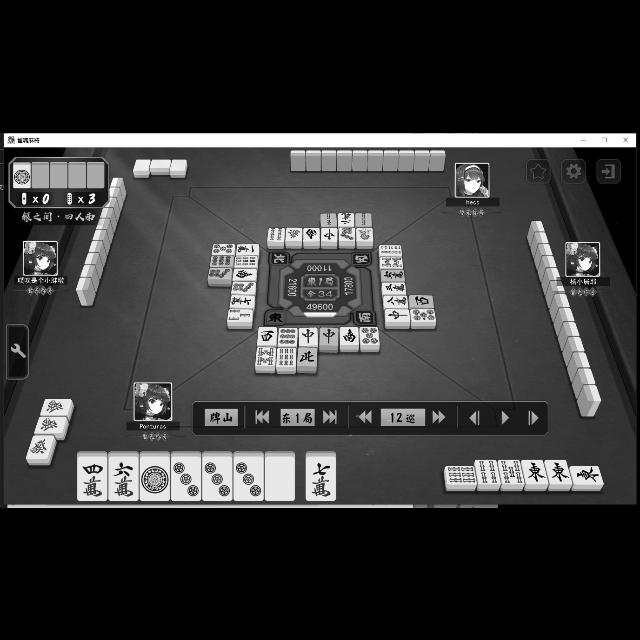1m: (236, 243, 260, 255)
1p: (140, 457, 170, 501), (13, 162, 31, 188)
1s: (356, 226, 374, 242)
2m: (338, 212, 354, 226)
2s: (320, 212, 338, 226), (356, 212, 372, 226)
3m: (382, 282, 406, 294)
3p: (171, 456, 201, 500), (202, 456, 232, 500), (234, 456, 264, 500)
3s: (228, 308, 252, 322)
4m: (77, 456, 107, 500)
4s: (476, 459, 500, 483), (379, 244, 403, 256), (266, 226, 284, 240)
5p: (358, 326, 379, 344), (412, 308, 436, 320), (211, 242, 233, 254)
5s: (500, 460, 524, 484)
6m: (109, 456, 139, 499), (382, 269, 404, 281)
6s: (445, 464, 477, 484)
7m: (304, 456, 334, 499), (230, 294, 254, 308)
7p: (231, 280, 255, 294), (208, 266, 232, 280), (339, 227, 356, 241)
8m: (384, 294, 408, 308)
8s: (256, 346, 274, 366), (380, 256, 404, 268)
9p: (278, 327, 296, 345), (210, 254, 233, 266)
9s: (276, 348, 296, 366), (234, 254, 258, 266)
chun: (384, 308, 410, 322), (300, 326, 318, 346), (321, 326, 339, 346), (320, 227, 338, 241)
haku: (266, 456, 294, 498), (150, 158, 172, 168), (170, 158, 188, 170), (134, 158, 150, 170)
hatsu: (26, 434, 52, 458), (34, 416, 66, 434), (40, 399, 72, 415), (286, 228, 302, 240)
nan: (340, 326, 358, 344), (233, 268, 257, 280), (303, 226, 319, 242)
pe: (296, 346, 318, 366)
sha: (256, 327, 278, 345), (408, 294, 434, 308)
tou: (522, 459, 550, 483), (546, 460, 572, 484), (571, 466, 605, 482)
